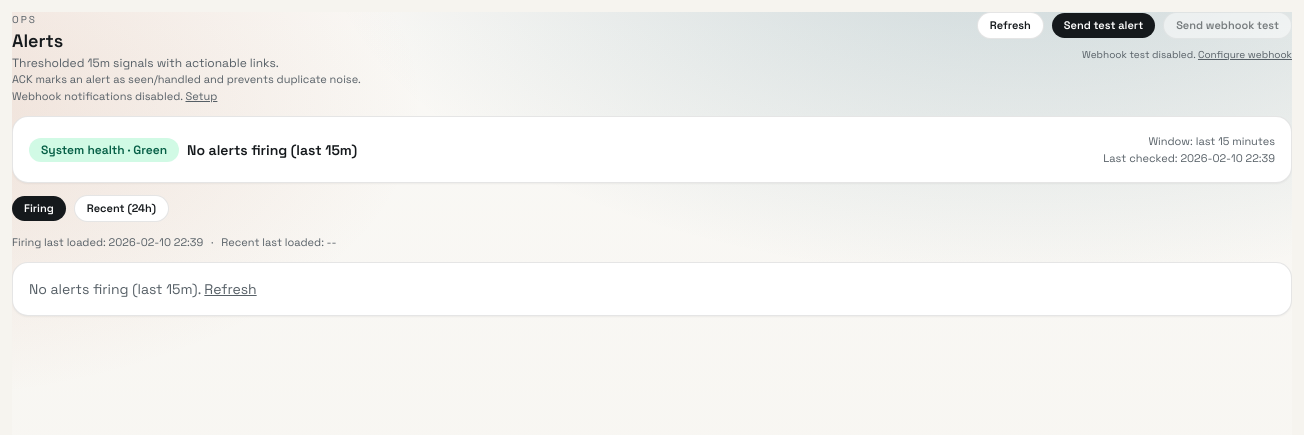
Test case: Ops alerts UI extras › keeps test events collapsed when send test fails
This screenshot has width=1304, height=435.
What coordinates should you click on to do the following:
click the button "Send test alert"
I would click on:
 (1103, 25)
Its box is left=1052, top=13, right=1155, bottom=38.
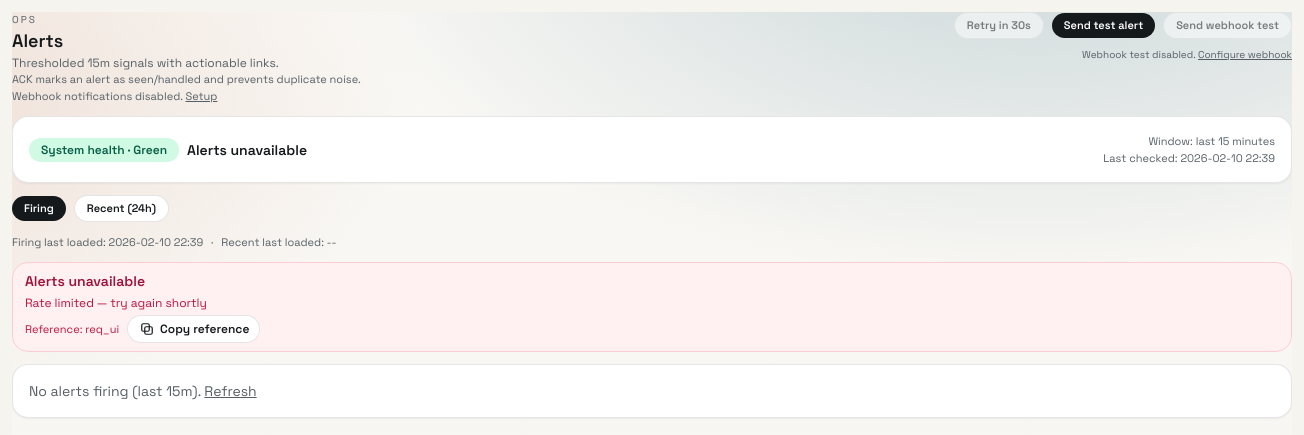
expect the text "Rate limited — try again shortly" is shown: met, box left=25, top=295, right=207, bottom=311
